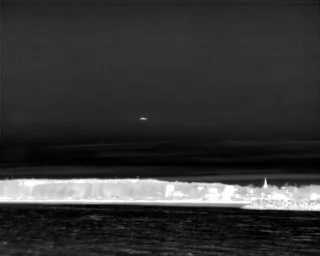BIRD: (138, 114, 149, 124)
